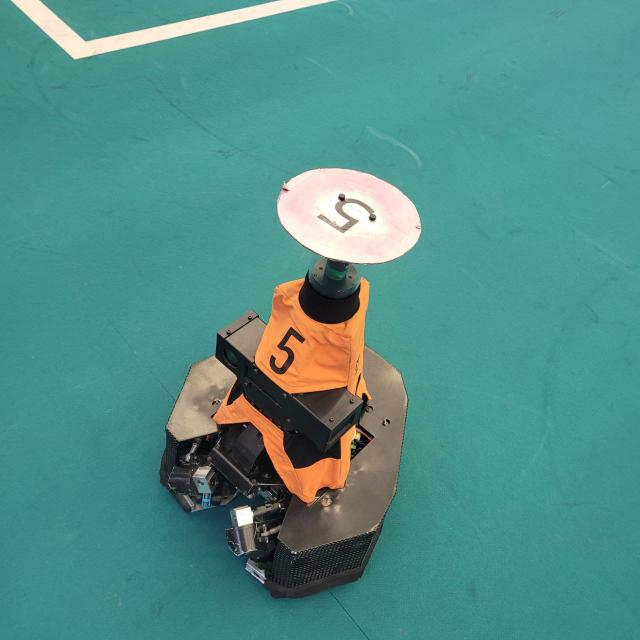robot: (152, 125, 440, 606)
